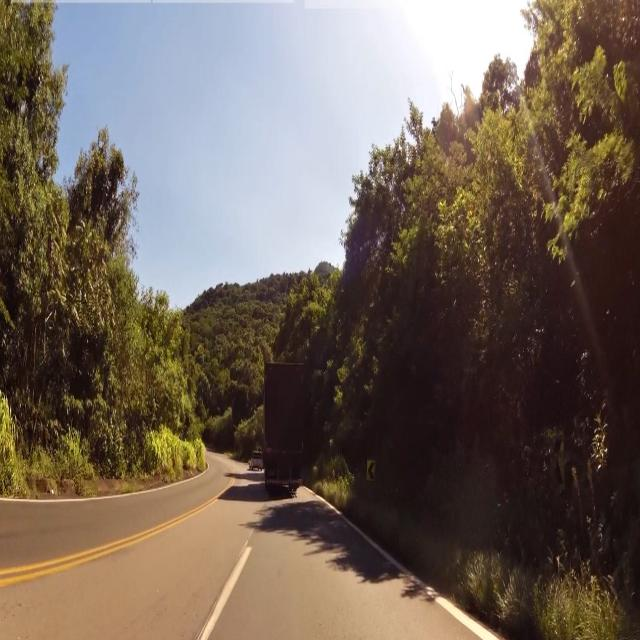Del: (365, 456, 377, 483)
